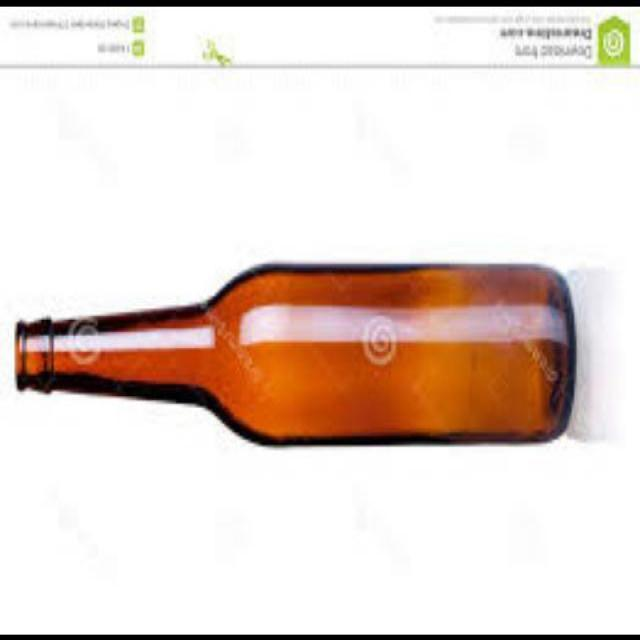Glass: (11, 256, 580, 448)
